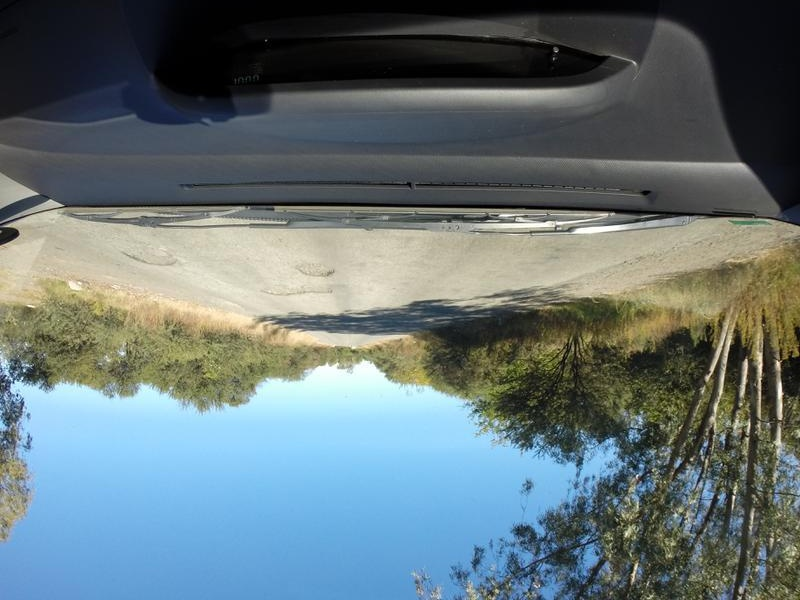pothole: (117, 243, 191, 266), (258, 280, 334, 299), (296, 261, 345, 278)
